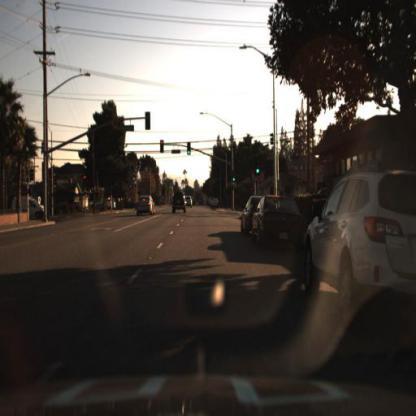car: (303, 163, 416, 337), (248, 190, 305, 260), (249, 193, 306, 248), (11, 189, 48, 217), (237, 190, 252, 241), (134, 190, 156, 224), (134, 193, 163, 216), (171, 191, 189, 215), (105, 197, 118, 215)
trafficLight-Green: (233, 167, 243, 189), (185, 143, 193, 160), (256, 158, 263, 177), (186, 148, 192, 160), (255, 165, 261, 177), (230, 177, 237, 187)
trafficLight-Red: (160, 138, 166, 152), (82, 170, 88, 183)
trafficLight-RedLeft: (157, 136, 165, 158), (83, 171, 88, 190)
